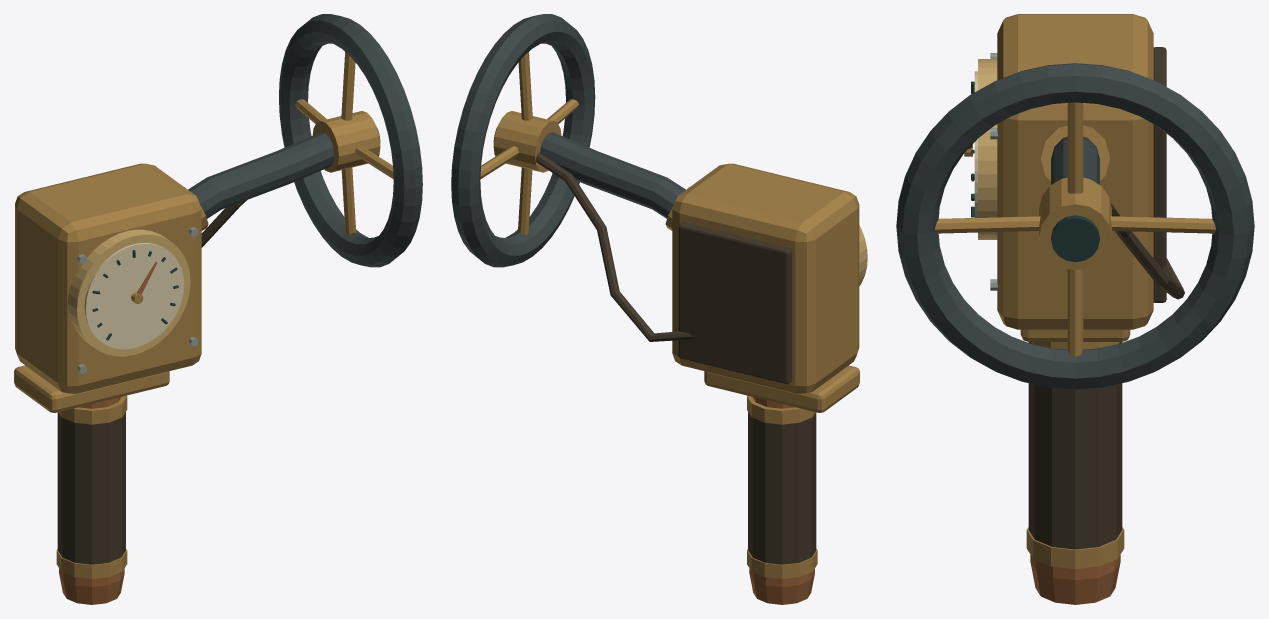
The model's file is detector.glb.
3 renders of one model, left to right at view 1: azimuth 30°, elevation 25°; view 2: azimuth 150°, elevation 25°; view 3: azimuth 270°, elevation 25°, orthographic. The views are drawn at different scales.
Parts seen in each view (by area): view 1: detector_surface; view 2: detector_surface; view 3: detector_surface.
Boxes of the visible parts, left/top/right/bottom form: detector_surface: left=14, top=14, right=422, bottom=604; detector_surface: left=451, top=14, right=867, bottom=604; detector_surface: left=896, top=14, right=1254, bottom=604.
Bounding box in the file's own units: 0.311 × 0.443 × 0.206.
